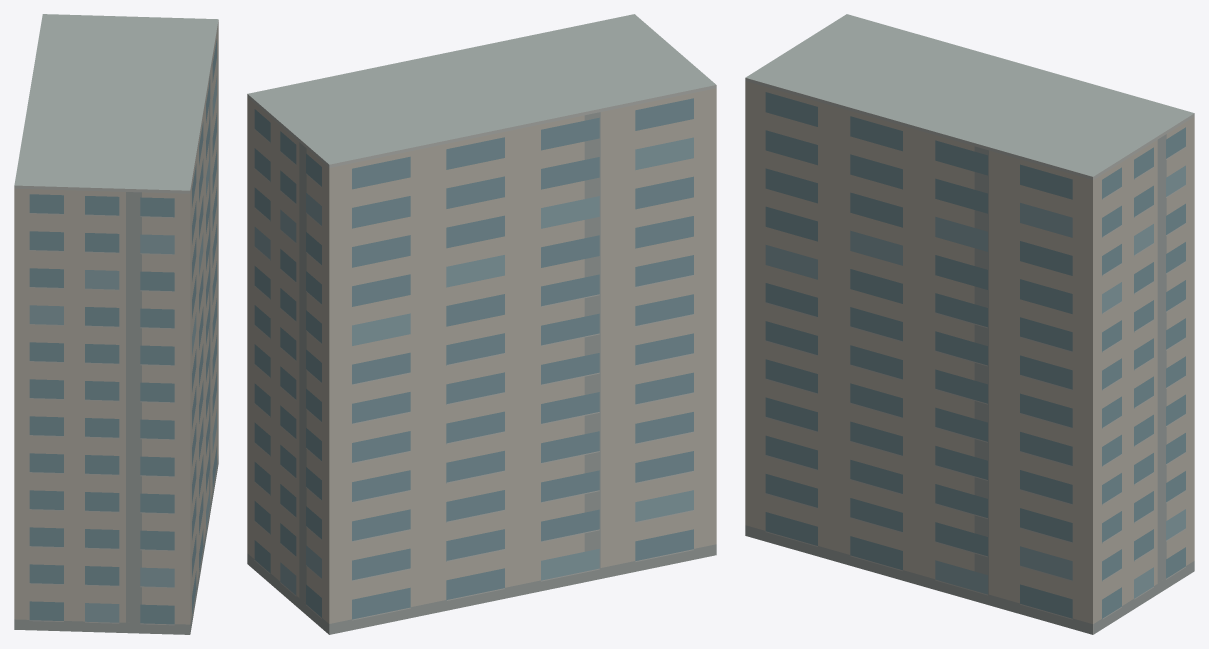
File: residential-ef3f0f11-4056-45b2-bc89-335f26020676.glb
The picture shows the model from 3 angles, left to right: view 1: azimuth 30°, elevation 25°; view 2: azimuth 150°, elevation 25°; view 3: azimuth 270°, elevation 25°; orthographic projection. The views are drawn at different scales.
Parts seen in each view (by area): view 1: residential-ef3f0f11-4056-45b2-bc89-335f26020676.tmp; view 2: residential-ef3f0f11-4056-45b2-bc89-335f26020676.tmp; view 3: residential-ef3f0f11-4056-45b2-bc89-335f26020676.tmp.
Part boxes in pixels (left/top/right/bottom): residential-ef3f0f11-4056-45b2-bc89-335f26020676.tmp: left=14, top=14, right=218, bottom=634; residential-ef3f0f11-4056-45b2-bc89-335f26020676.tmp: left=247, top=14, right=716, bottom=634; residential-ef3f0f11-4056-45b2-bc89-335f26020676.tmp: left=745, top=14, right=1194, bottom=634.
Size of the model in its own units: 26.7 by 35 by 31.13.
